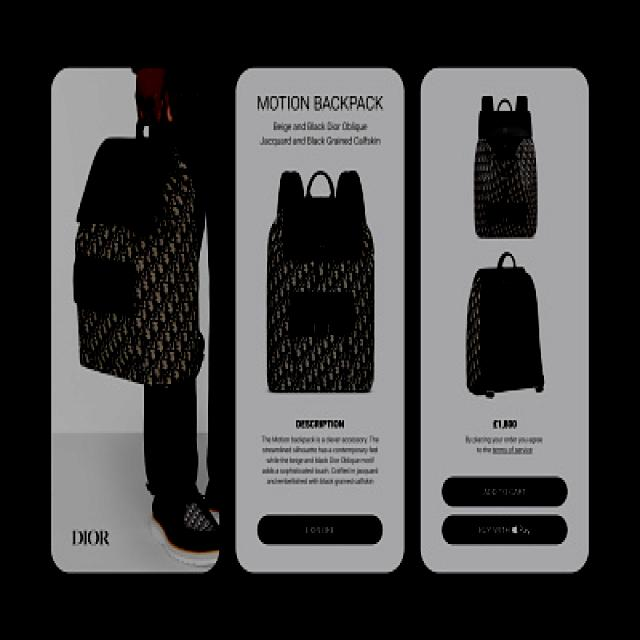backpack: (65, 118, 207, 398), (260, 166, 380, 403), (458, 251, 554, 403), (466, 92, 546, 244)
